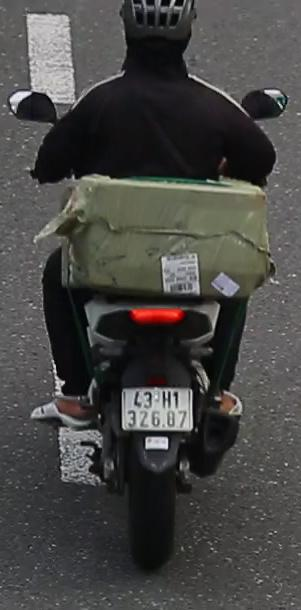LP: (118, 372, 197, 448)
